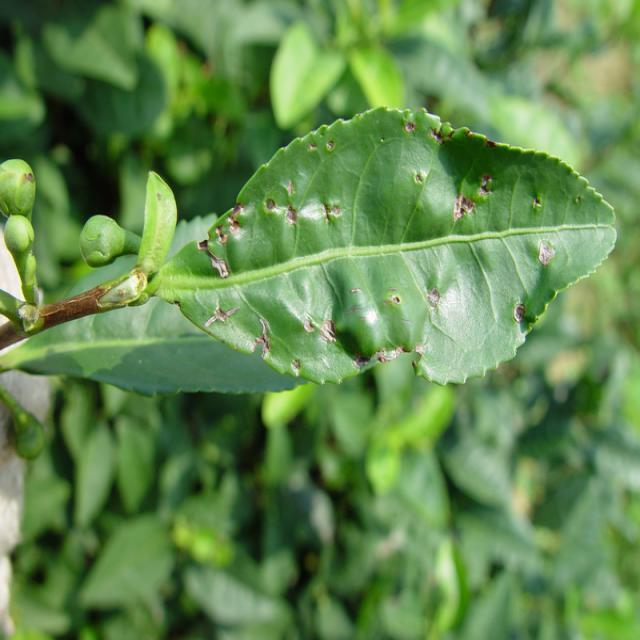Tea red scab: (211, 112, 588, 376)
